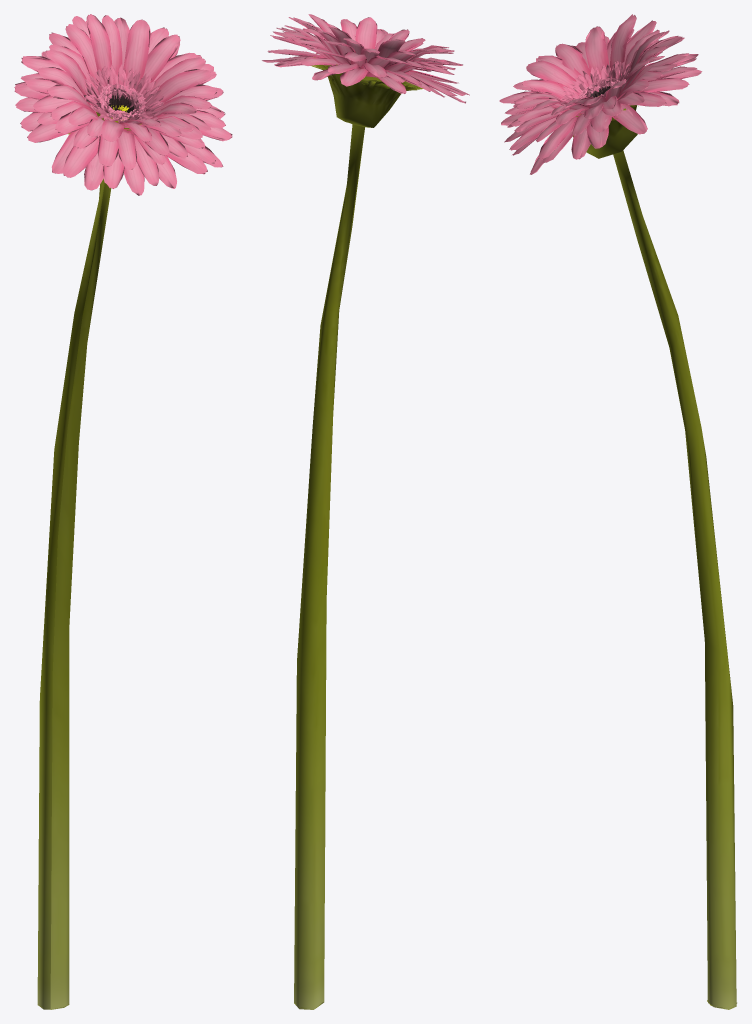
Rendered from gpink.glb.
3 views of the same model, side by side, from view 1: azimuth 30°, elevation 25°; view 2: azimuth 150°, elevation 25°; view 3: azimuth 270°, elevation 25° (orthographic). The views are drawn at different scales.
Parts seen in each view (by area): view 1: base.003, gerberapink; view 2: gerberapink, base.003; view 3: gerberapink, base.003.
Boxes of the visible parts, left/top/right/bottom form: base.003: left=14, top=14, right=232, bottom=195; gerberapink: left=37, top=105, right=141, bottom=1009; gerberapink: left=294, top=57, right=422, bottom=1009; base.003: left=262, top=14, right=469, bottom=103; gerberapink: left=573, top=96, right=736, bottom=1009; base.003: left=499, top=14, right=701, bottom=174.
Bounding box in the file's own units: 26.82 × 135 × 29.81.
Materials: 2 (2 with a texture image).
